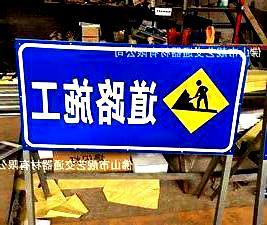sign: (22, 40, 236, 151)
